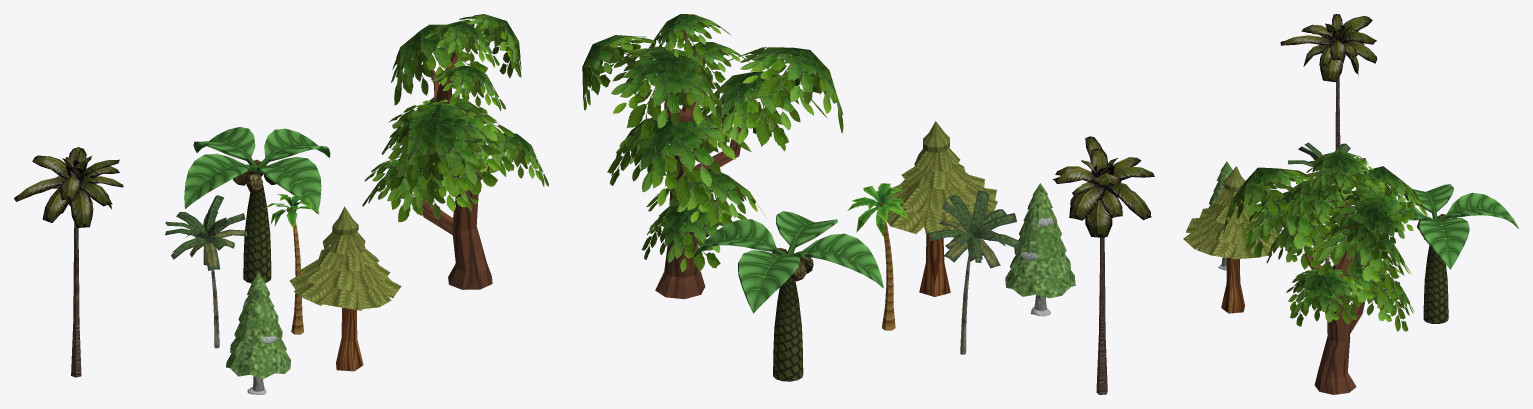
Rendered from trees.fbx.
The picture shows the model from 3 angles, left to right: view 1: azimuth 30°, elevation 25°; view 2: azimuth 150°, elevation 25°; view 3: azimuth 270°, elevation 25°; orthographic projection. The views are drawn at different scales.
Parts seen in each view (by area): view 1: Tree_7, Tree_6, tree_5, Tree_3, Tree_2, Tree_1, Tree_4; view 2: Tree_7, Tree_6, tree_5, Tree_3, Tree_2, Tree_1, Tree_4; view 3: Tree_7, Tree_6, tree_5, Tree_3, Tree_1, Tree_2.
Boxes of the visible parts, <box> form: Tree_7: <box>362,14,548,289</box>; Tree_6: <box>184,127,330,283</box>; tree_5: <box>289,206,401,371</box>; Tree_3: <box>14,147,123,377</box>; Tree_2: <box>226,272,290,394</box>; Tree_1: <box>165,195,247,348</box>; Tree_4: <box>263,194,319,334</box>; Tree_7: <box>582,14,843,299</box>; Tree_6: <box>692,211,883,381</box>; tree_5: <box>876,121,997,296</box>; Tree_3: <box>1052,136,1154,394</box>; Tree_2: <box>1005,183,1075,316</box>; Tree_1: <box>927,190,1020,354</box>; Tree_4: <box>847,183,908,330</box>; Tree_7: <box>1223,150,1427,394</box>; Tree_6: <box>1377,184,1518,323</box>; tree_5: <box>1183,166,1281,313</box>; Tree_3: <box>1280,14,1377,214</box>; Tree_1: <box>1287,142,1366,262</box>; Tree_2: <box>1209,161,1232,270</box>.
Bounding box in the file's own units: 391 × 188 × 250.
Materials: 2 (2 with a texture image).
